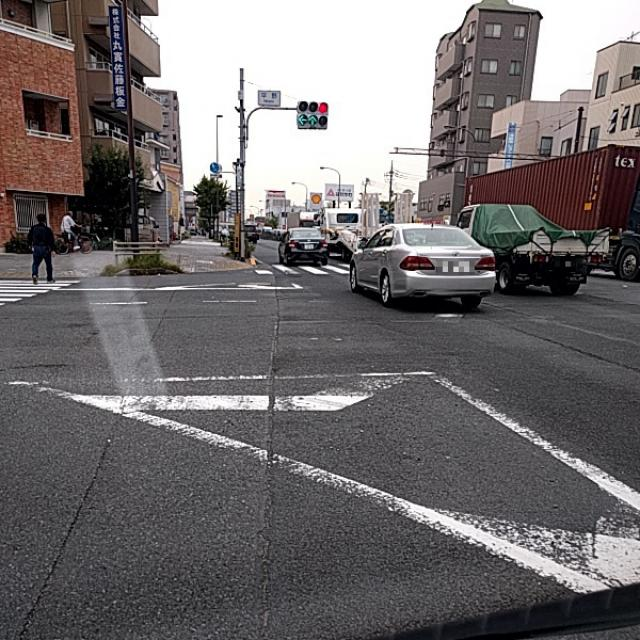pothole: (95, 410, 126, 476)
